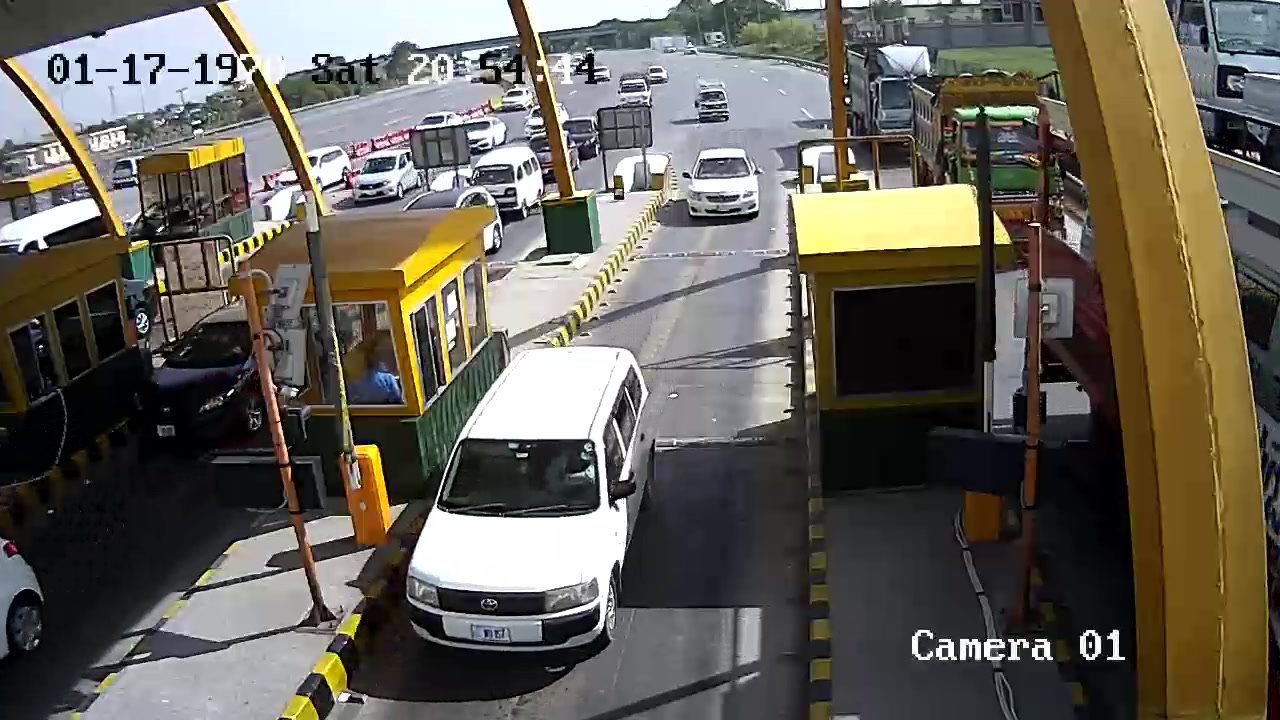F1: (399, 340, 671, 657)
